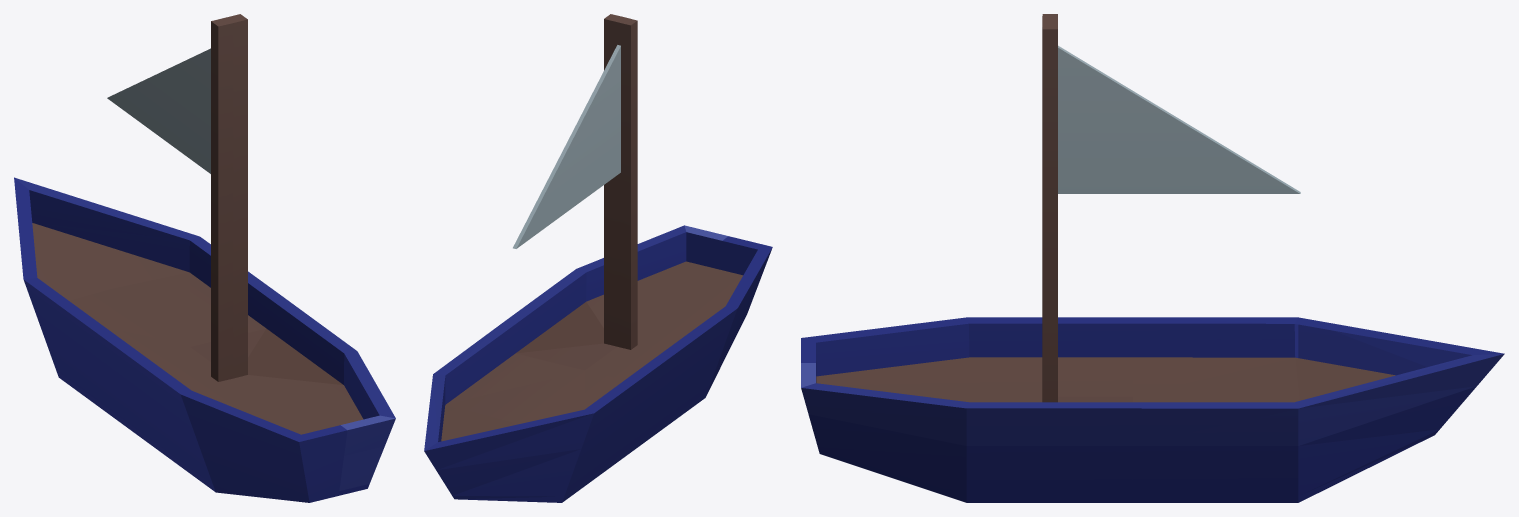
The model's file is hajo1.fbx.
3 views of the same model, side by side, from view 1: azimuth 30°, elevation 25°; view 2: azimuth 150°, elevation 25°; view 3: azimuth 270°, elevation 25° (orthographic). The views are drawn at different scales.
Parts seen in each view (by area): view 1: hajotest; view 2: hajotest; view 3: hajotest.
Part boxes in pixels (<box>): hajotest: <box>14,14,395,502</box>; hajotest: <box>424,14,772,502</box>; hajotest: <box>801,14,1504,502</box>.
Size of the model in its own units: 1.3 by 3.02 by 4.25.
1 material, 1 textured.
